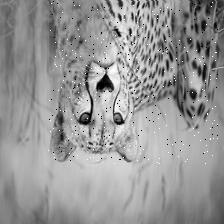Cheetha: (47, 0, 217, 163)
